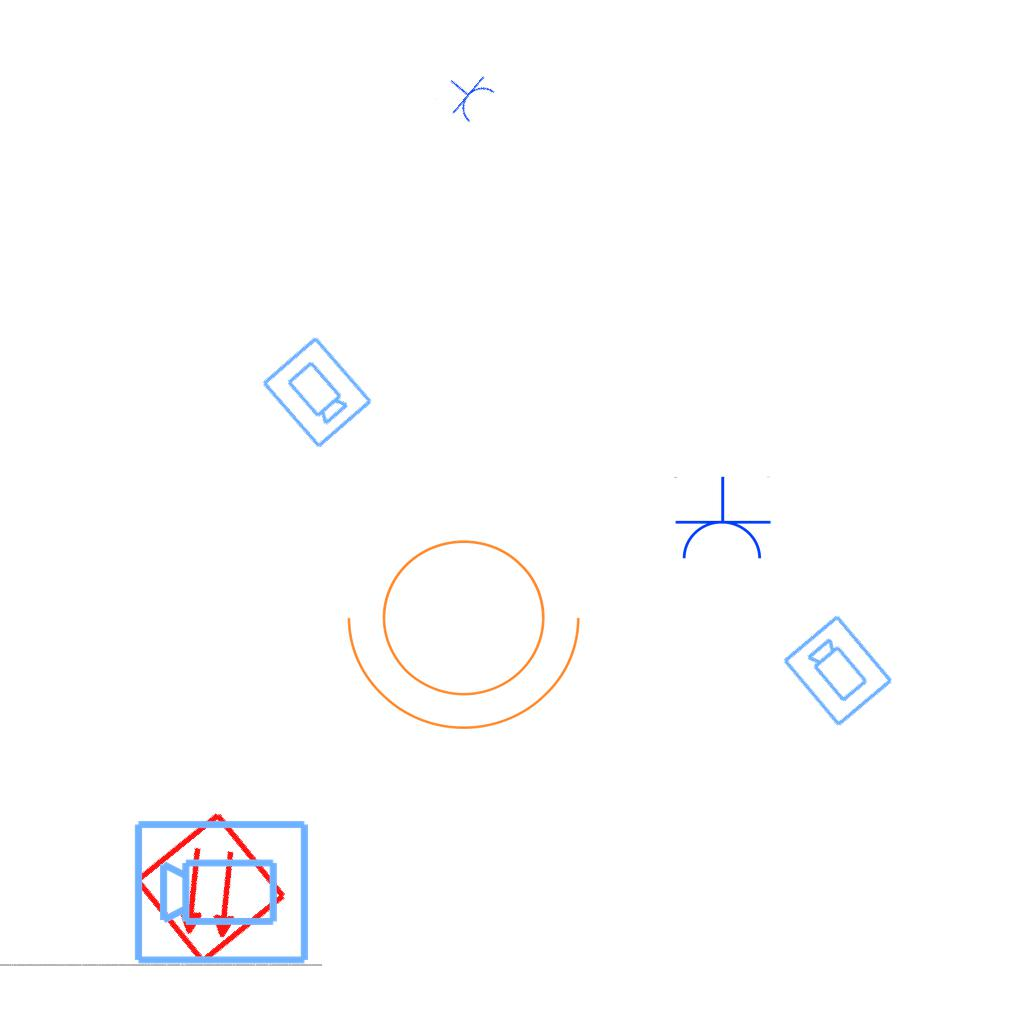KFO_Kamera_mit_Festobjektiv: (131, 814, 313, 968), (779, 610, 898, 731), (257, 332, 376, 453)
RMO_Rauchmelder_optischer: (131, 809, 290, 968)
Scheinwerfer_fuer_Alarmbeleuchtung: (338, 515, 602, 740)
Schukosteckdose_einfach: (672, 476, 772, 563), (434, 61, 500, 128)
